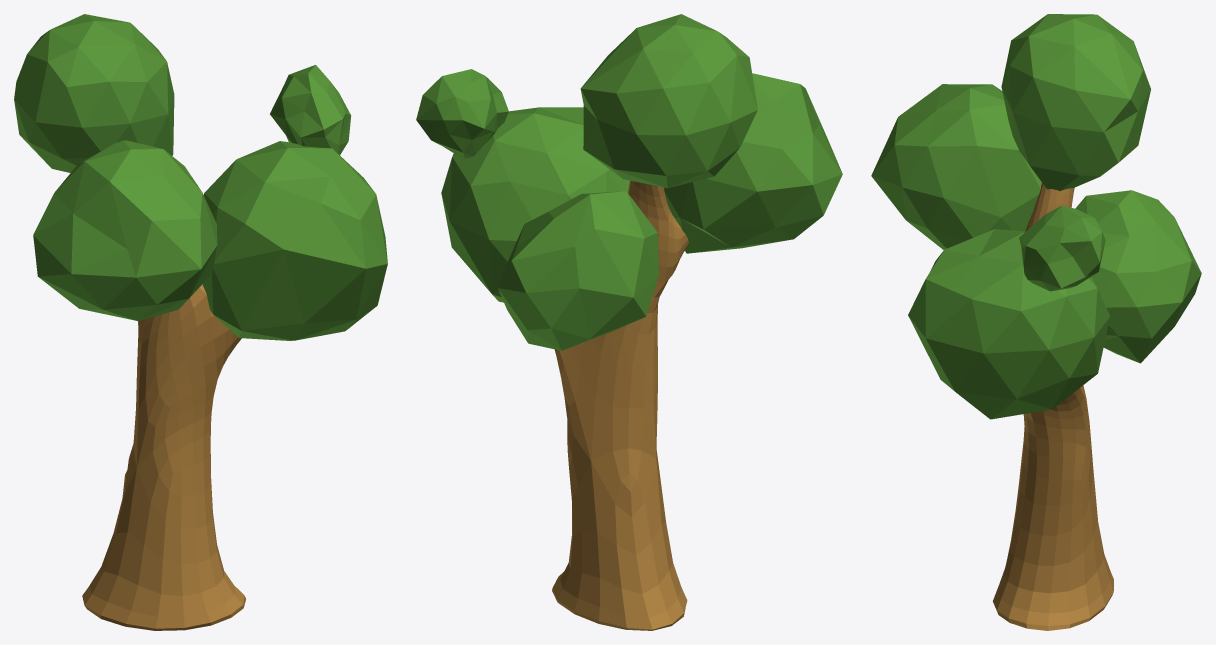
Rendered from lp-Tree_2.glb.
3 views of the same model, side by side, from view 1: azimuth 30°, elevation 25°; view 2: azimuth 150°, elevation 25°; view 3: azimuth 270°, elevation 25° (orthographic). The views are drawn at different scales.
Parts seen in each view (by area): view 1: lp-Tree_2; view 2: lp-Tree_2; view 3: lp-Tree_2.
Boxes of the visible parts, x1=… form: lp-Tree_2: x1=14, y1=14, x2=387, y2=630; lp-Tree_2: x1=416, y1=14, x2=842, y2=630; lp-Tree_2: x1=871, y1=14, x2=1201, y2=630.
Bounding box in the file's own units: 6.82 × 11.04 × 5.97.
